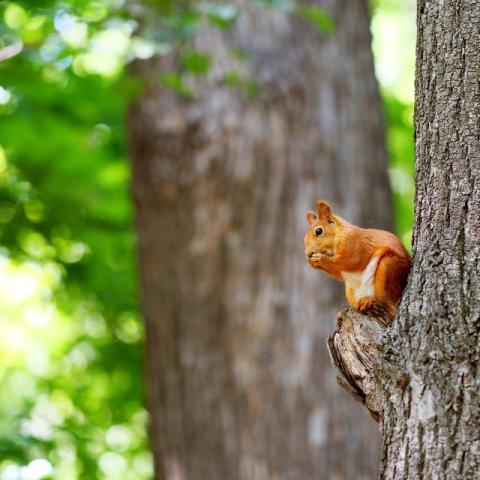small_animal: (301, 198, 413, 325)
